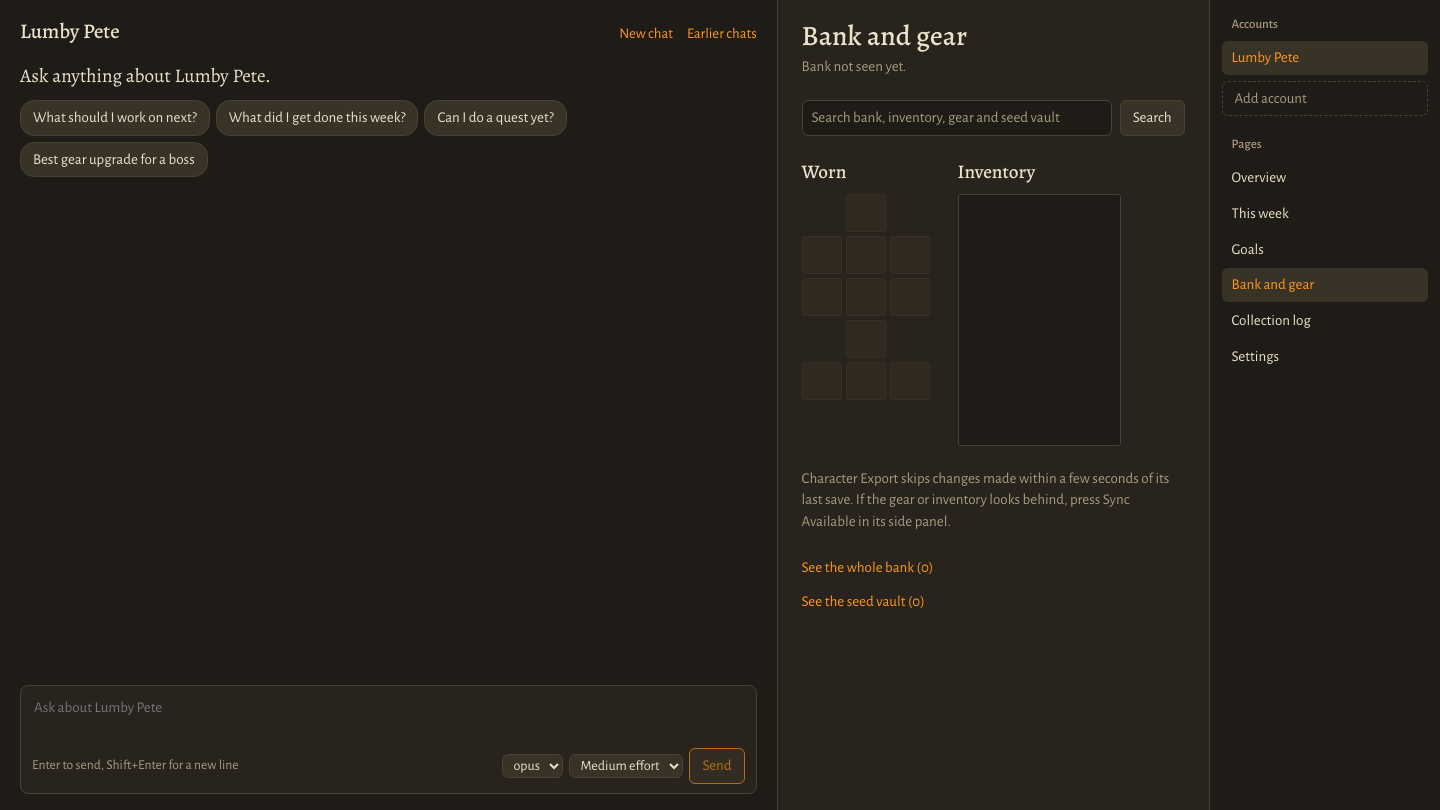
Scenario: BankGear › says when a search finds nothing, and clears with the box
Type "whip" into the search field at (957, 118), box [802,100,1112,136]
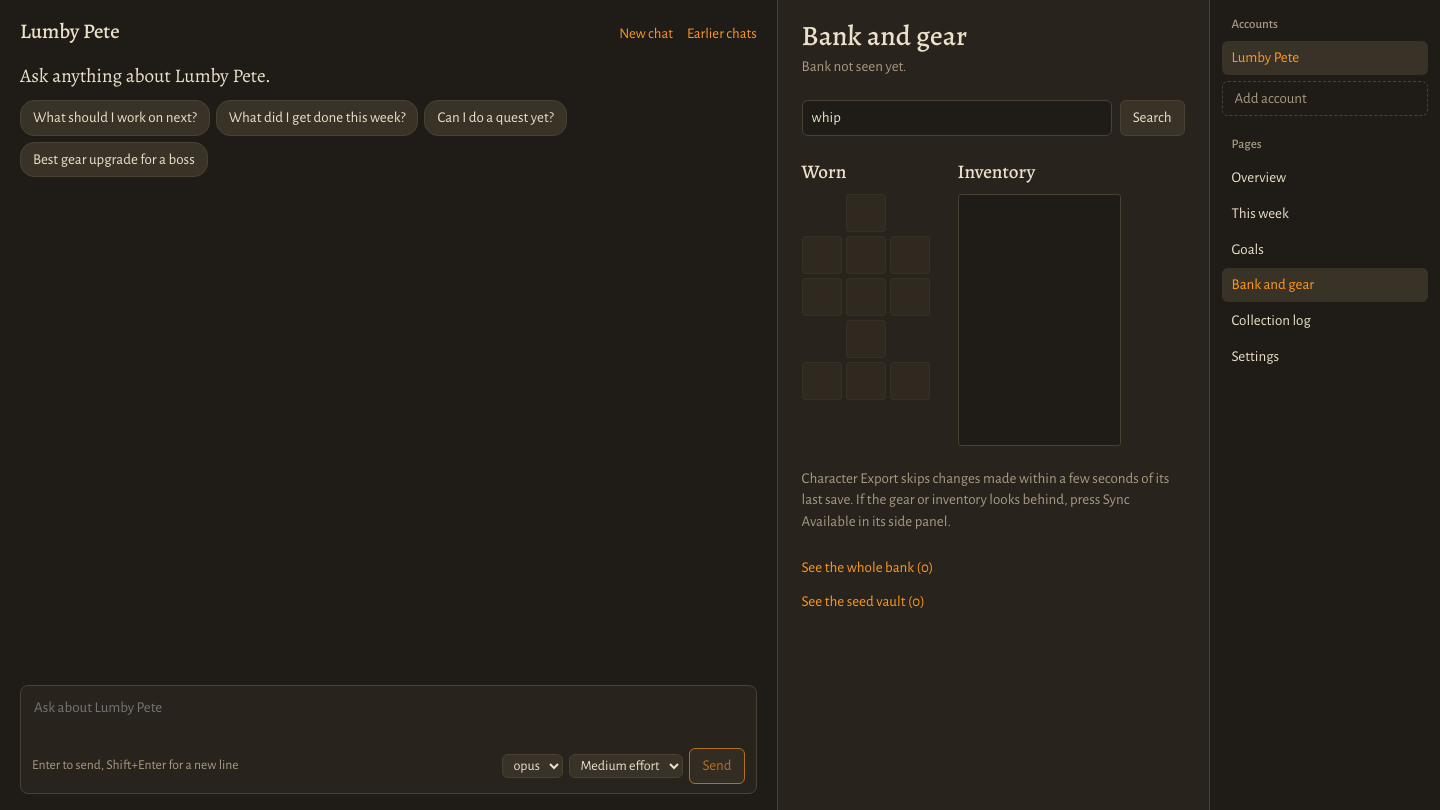
Submit the form from the search field, box [802,100,1112,136]
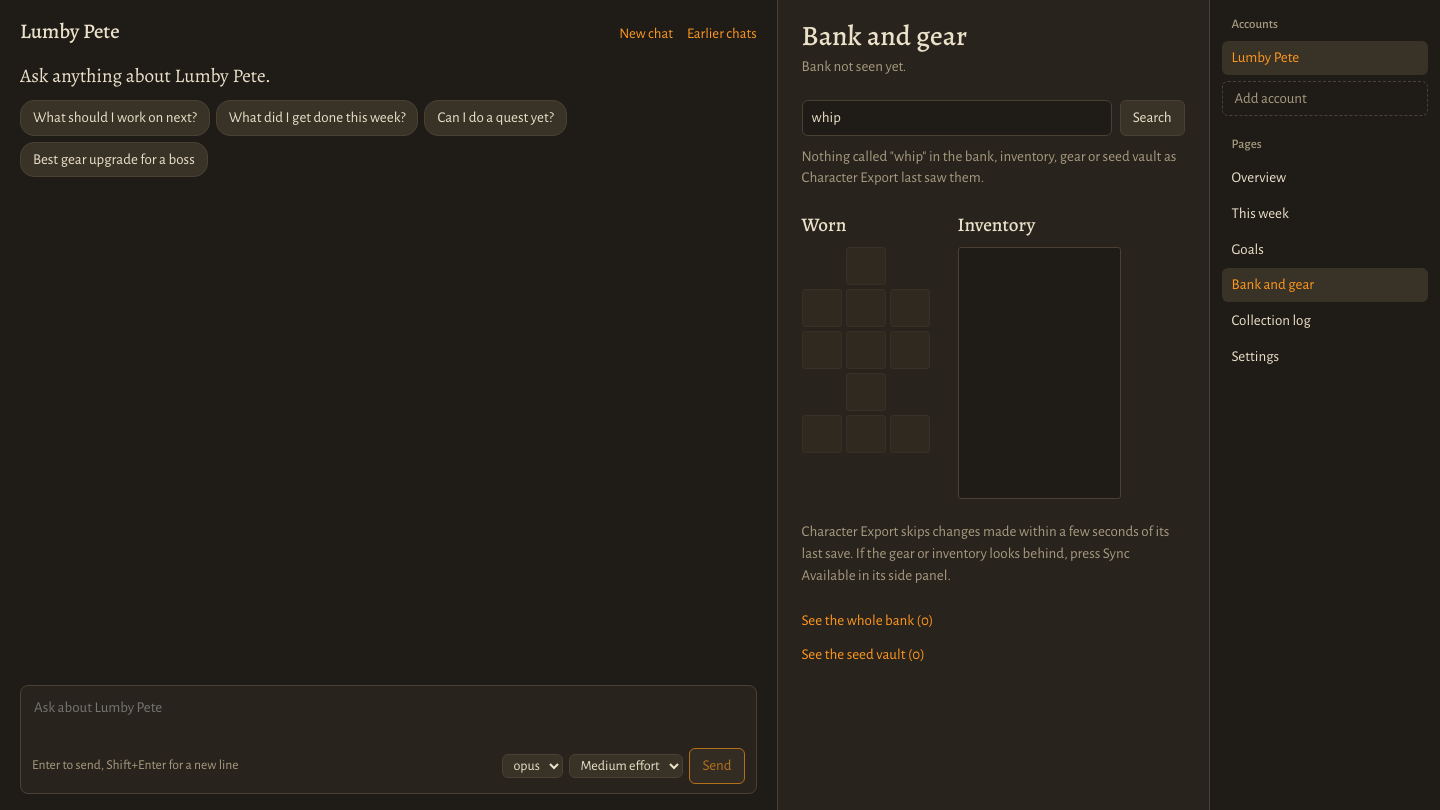
Check: the text "Nothing called \"whip\" in the bank, inventory, gear or seed vault as Character Export last saw them." is shown, box [802,149,1176,186]
Clear the search field at (957, 118), box [802,100,1112,136]
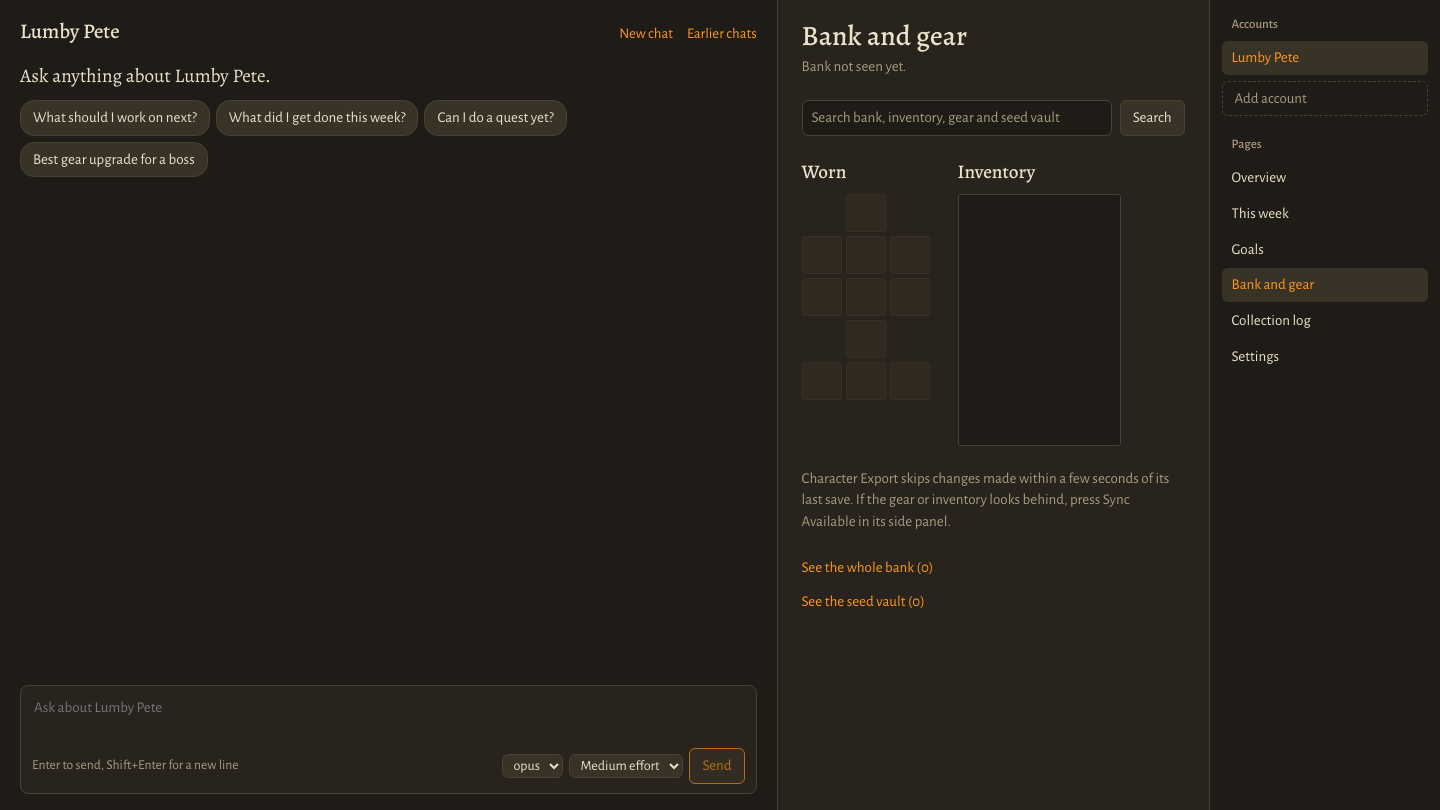
Check: the text "Nothing called" is gone
